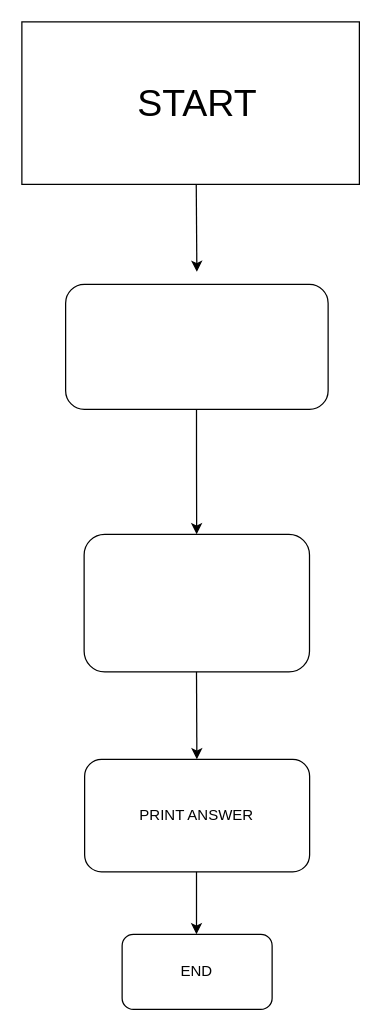
Image size: 381x1031. Some labels were removed from this diagram. Each missing label, with the box of its shape:
DIVIDE THE SUM BY THE AMOUT OF DIGITS: (83, 533, 310, 672)
FIND THE SUM OF ALL THE NUMBERS.: (64, 283, 328, 409)
